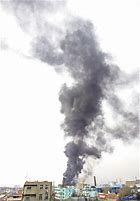smoke: (56, 15, 120, 183)
